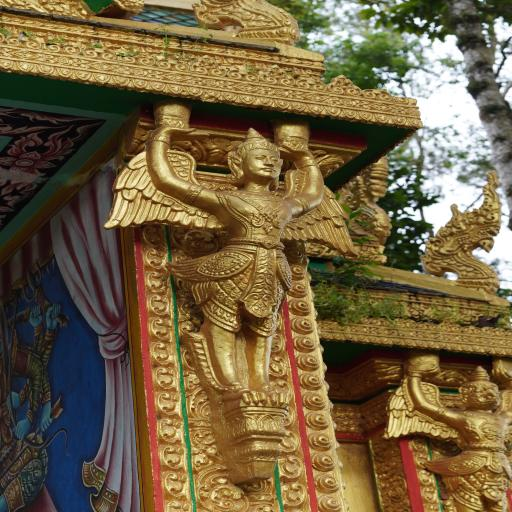ran: (420, 166, 512, 297), (330, 146, 421, 268), (182, 0, 324, 47)
than: (95, 95, 359, 492), (381, 347, 512, 512)
